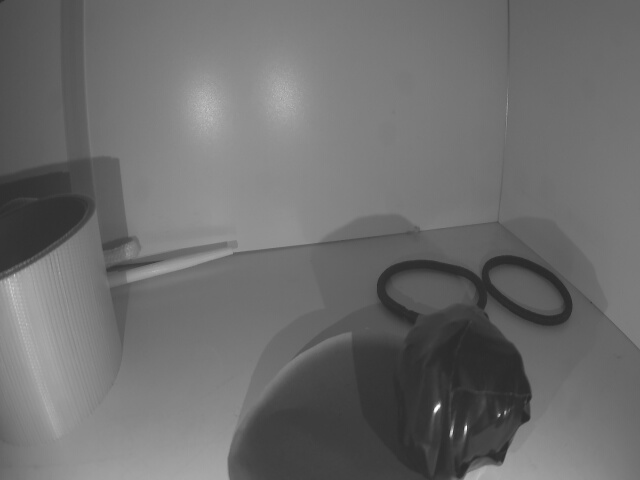Dead: (396, 303, 524, 476)
